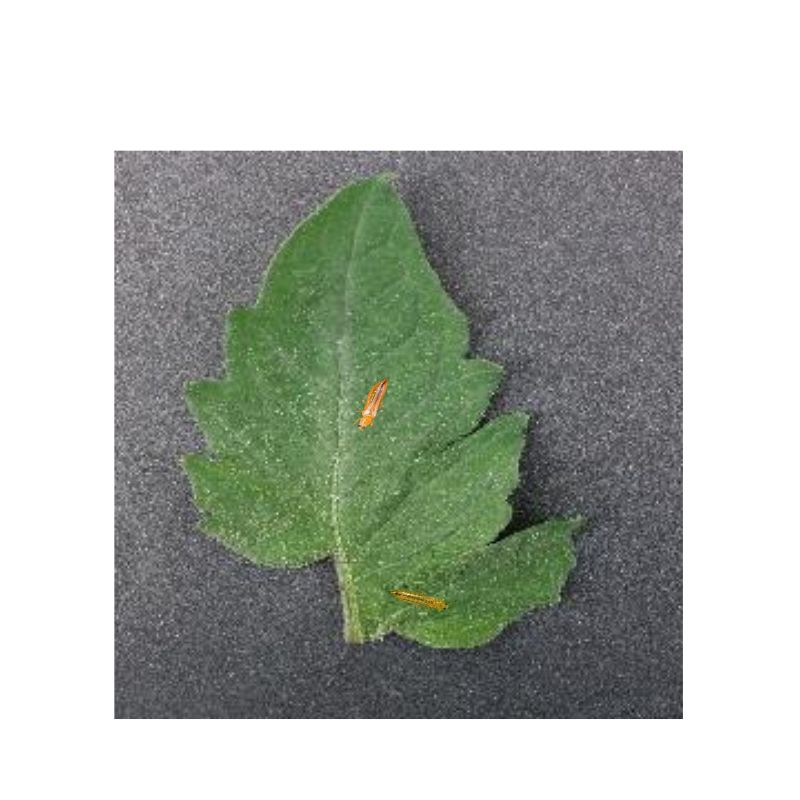thrips: (351, 378, 390, 430), (385, 587, 450, 617)
